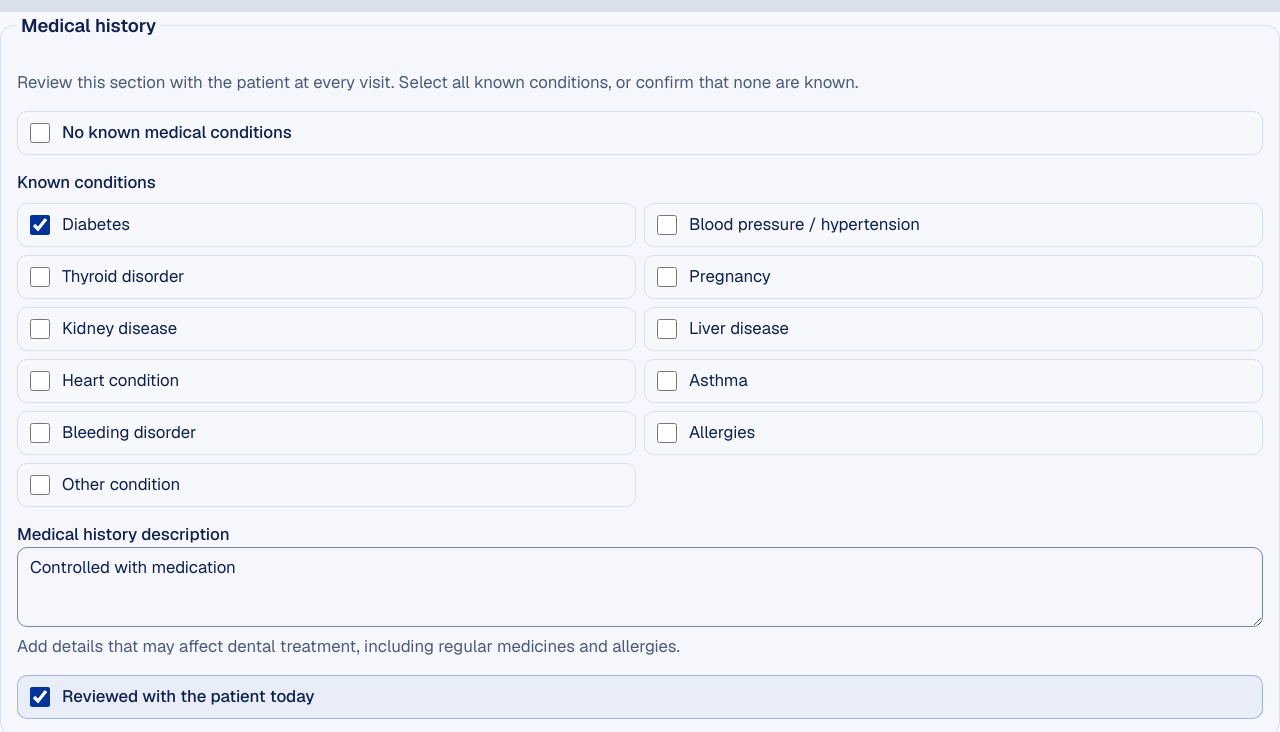
Test: MedicalHistoryFields › clears stale details and requires a fresh acknowledgement when no conditions are known
Click the checkbox labelled "No known medical conditions" at (40,133), box x1=30 y1=123 x2=50 y2=143
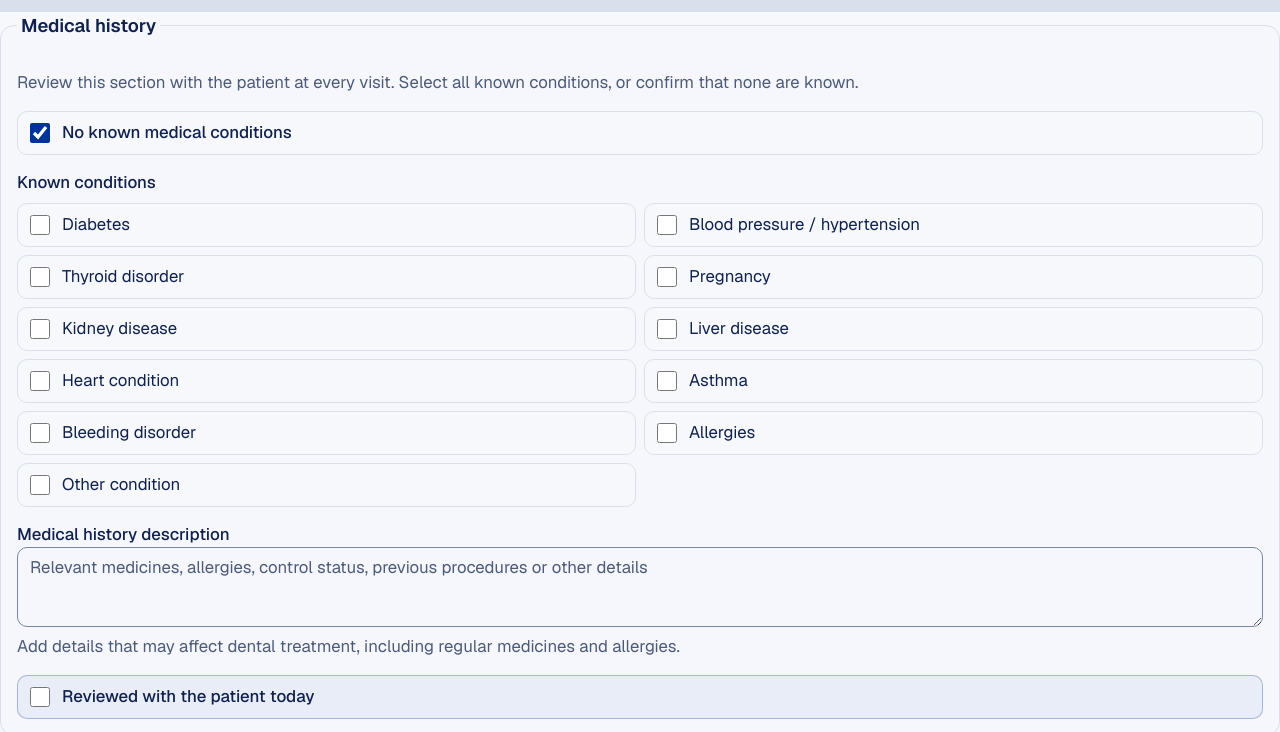
Expected: the text box labelled "Medical history description" is empty, x1=17 y1=547 x2=1263 y2=627
Expected: the checkbox labelled "Reviewed with the patient today" is not checked, x1=30 y1=687 x2=50 y2=707
